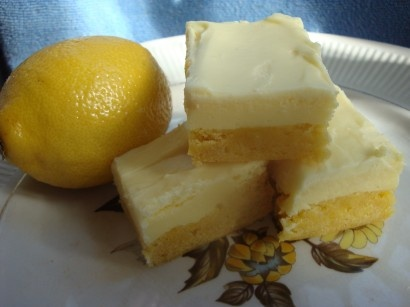background: (0, 6, 259, 128)
